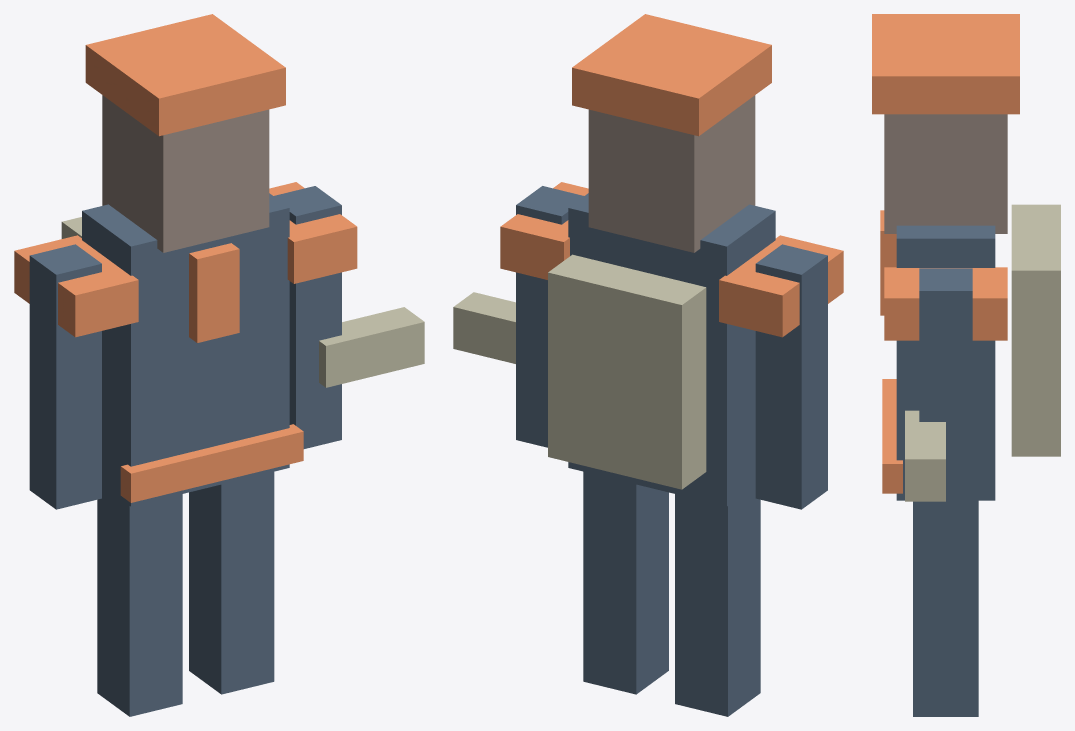
File: 03_draven_skyharrow_guide_near_crater.glb
3 views of the same model, side by side, from view 1: azimuth 30°, elevation 25°; view 2: azimuth 150°, elevation 25°; view 3: azimuth 270°, elevation 25° (orthographic).
Visible parts, largest first — view 1: Draven Skyharrow, Guide near Crater; view 2: Draven Skyharrow, Guide near Crater; view 3: Draven Skyharrow, Guide near Crater.
Part boxes in pixels (box(x1,y1,x2,y2)): Draven Skyharrow, Guide near Crater: box(14, 14, 424, 716); Draven Skyharrow, Guide near Crater: box(453, 14, 843, 716); Draven Skyharrow, Guide near Crater: box(872, 14, 1060, 716).
Size of the model in its own units: 0.9807 by 1.64 by 0.4401.
